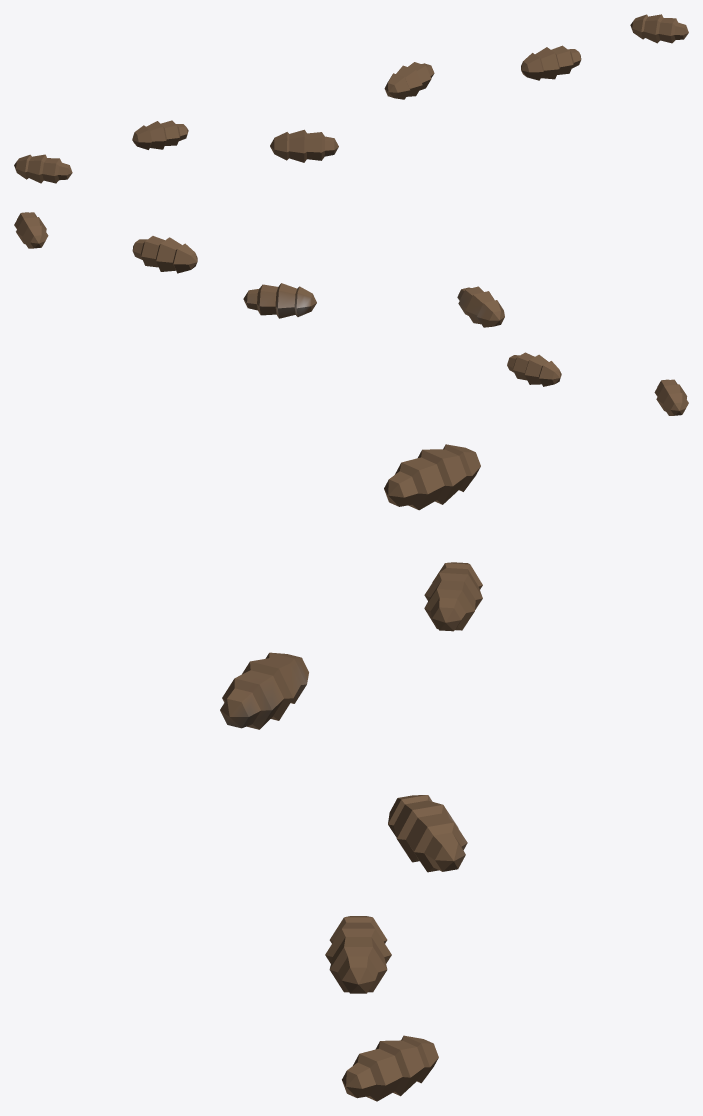
Rendered from syszki.fbx.
3 renders of one model, top to bottom at view 1: azimuth 30°, elevation 25°; view 2: azimuth 150°, elevation 25°; view 3: azimuth 270°, elevation 25°, orthographic. The views are drawn at different scales.
Visible parts, largest first — view 1: szysza; view 2: szysza; view 3: szysza.
Part boxes in pixels (x1,y1,x2,y2): szysza: (14, 14, 688, 183); szysza: (14, 212, 688, 415); szysza: (220, 444, 482, 1101).
Size of the model in its own units: 181 by 7.02 by 31.86.
